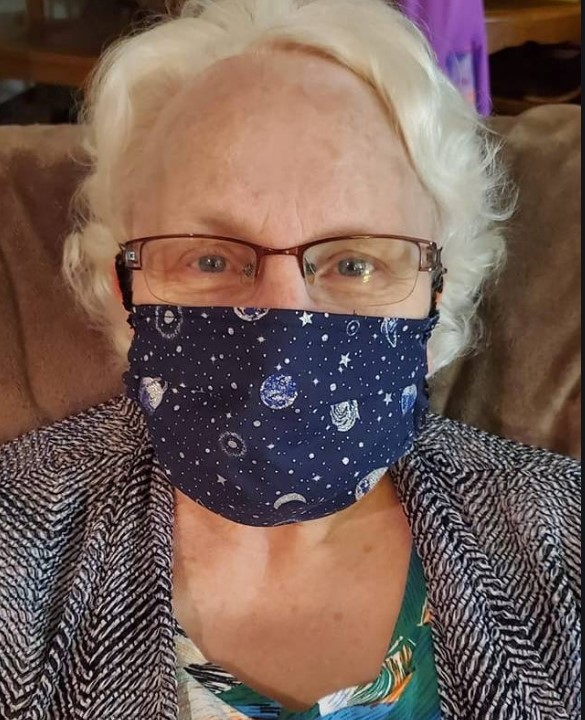face_with_mask: (88, 32, 485, 539)
